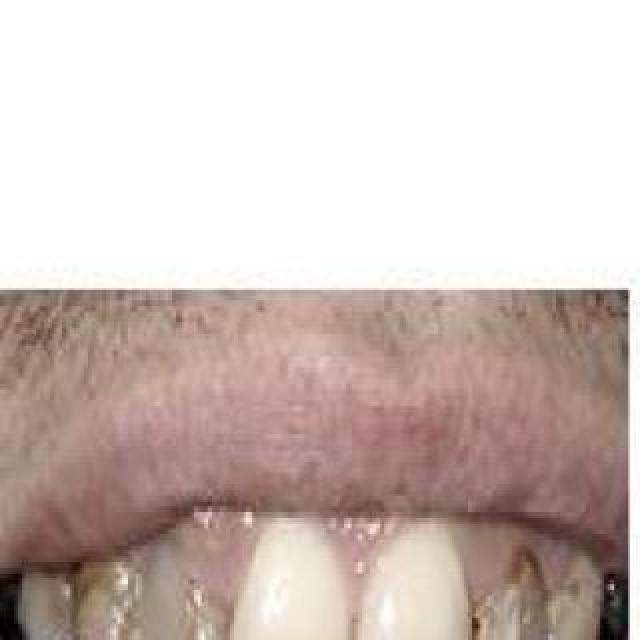cavities: (134, 522, 226, 640), (62, 544, 140, 640), (470, 540, 540, 640), (540, 534, 600, 640), (6, 562, 68, 640)
